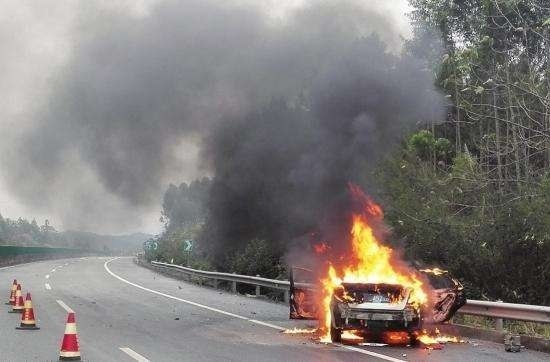fire: (314, 189, 464, 349)
